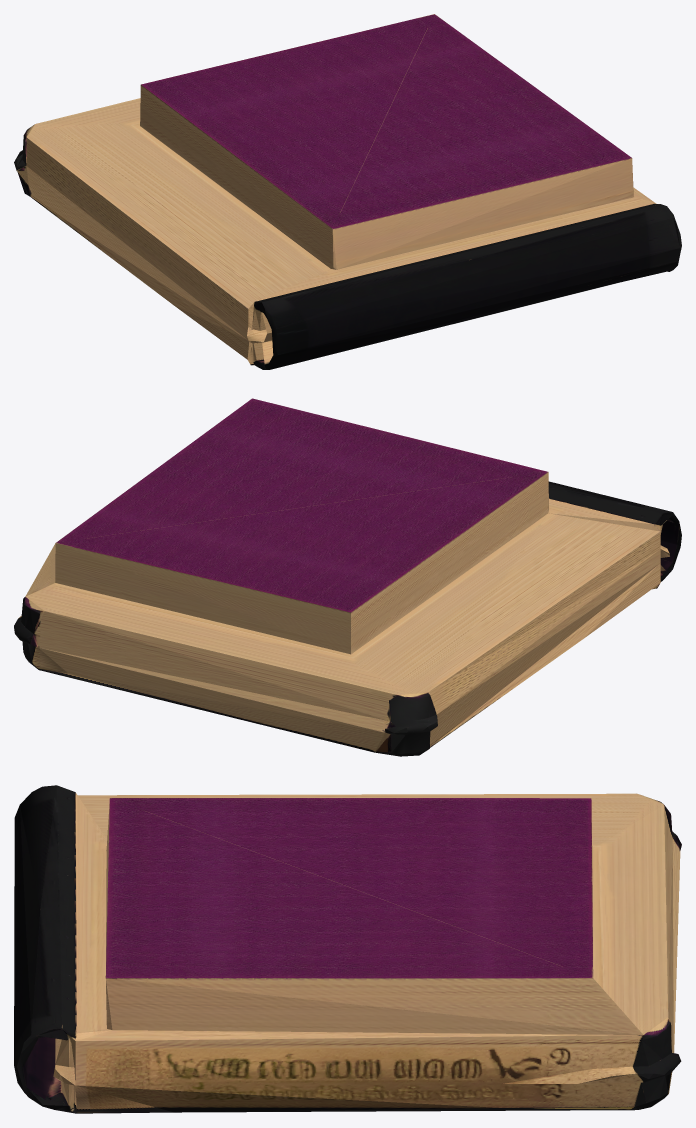
File: IT_Clutter_Book.fbx
3 renders of one model, top to bottom at view 1: azimuth 30°, elevation 25°; view 2: azimuth 150°, elevation 25°; view 3: azimuth 270°, elevation 25°, orthographic. The views are drawn at different scales.
Visible parts, largest first — view 1: Mesh_0; view 2: Mesh_0; view 3: Mesh_0.
Boxes of the visible parts, x1,y1,x2,y2 form: Mesh_0: (14, 14, 681, 369); Mesh_0: (14, 398, 681, 756); Mesh_0: (14, 785, 681, 1113).
Bounding box in the file's own units: 171 × 41 × 189.
Materials: 1 (1 with a texture image).
